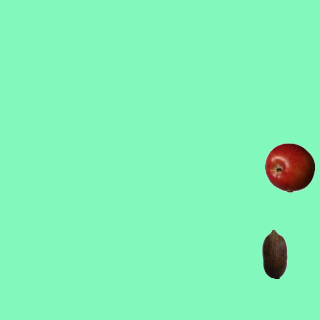Apple Braeburn: (264, 142, 314, 192)
Nut Pecan: (249, 228, 299, 278)
